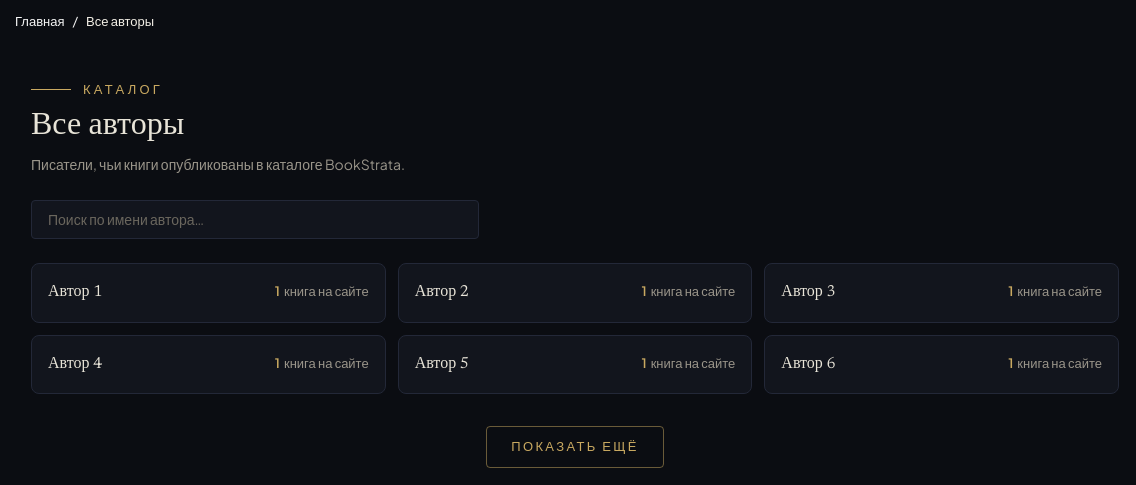
Test: AuthorsPage › показывает первых 6, остальные по кнопке «Показать ещё»
Expected: the text "Автор 6" is shown, left=781, top=352, right=836, bottom=377
Expected: the text "Автор 7" is not shown
Click the button "Показать ещё": (575, 447) left=486, top=426, right=664, bottom=468
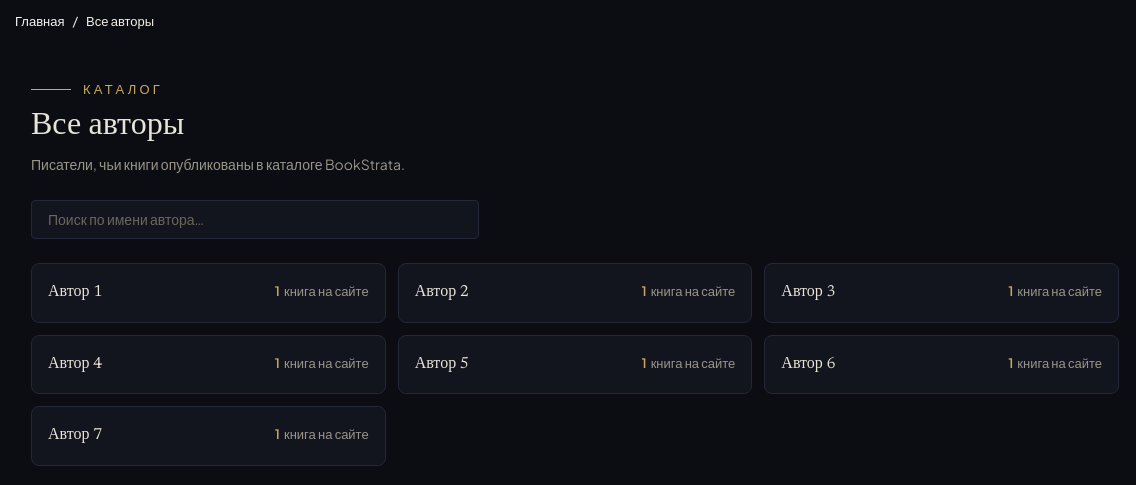
Now the text "Автор 7" is shown, box left=48, top=423, right=102, bottom=449
Now the button "Показать ещё" is gone
